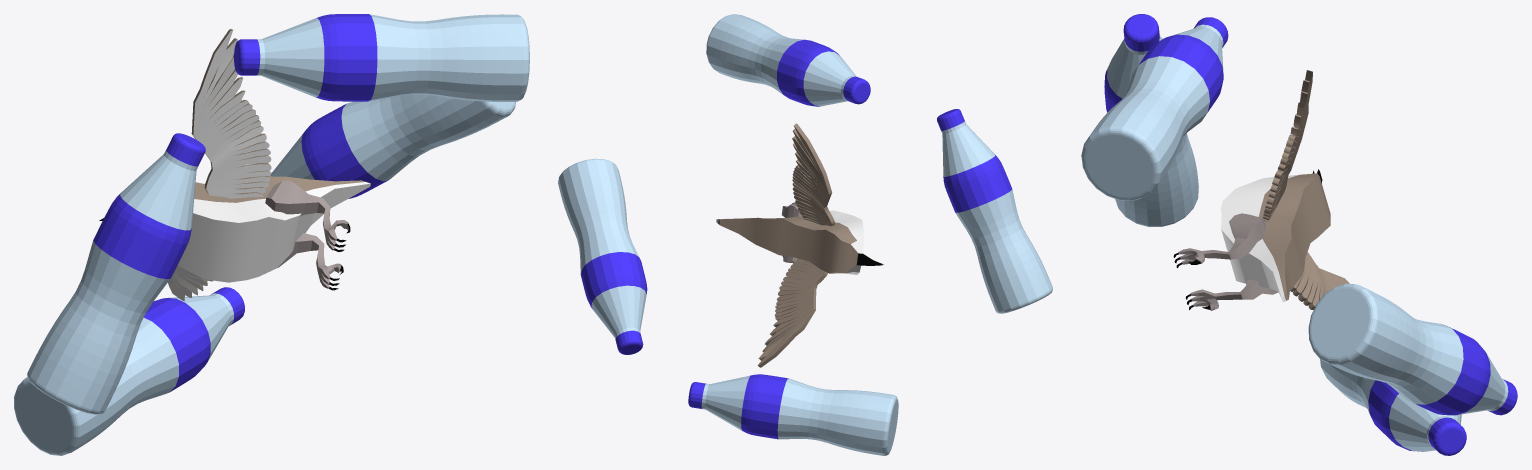
File: AnnaBird.gltf
3 renders of one model, left to right at view 1: azimuth 30°, elevation 25°; view 2: azimuth 150°, elevation 25°; view 3: azimuth 270°, elevation 25°, orthographic. The views are drawn at different scales.
Visible parts, largest first — view 1: AnnaBird; view 2: AnnaBird; view 3: AnnaBird.
Boxes of the visible parts, x1,y1,x2,y2 form: AnnaBird: (14, 14, 529, 455); AnnaBird: (558, 14, 1052, 455); AnnaBird: (1081, 14, 1517, 455).
Bounding box in the file's own units: 18.02 × 13.49 × 12.04.
